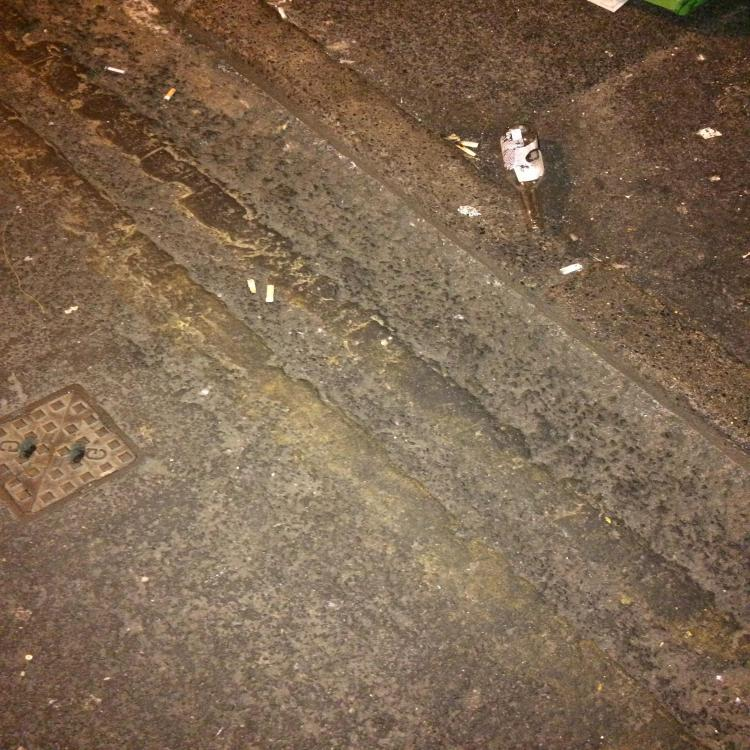Cigarette: (454, 143, 477, 157), (559, 263, 583, 276), (266, 286, 274, 302), (458, 142, 478, 148), (441, 134, 460, 140), (248, 280, 256, 294), (279, 8, 287, 19)
Glass bottle: (499, 123, 545, 232)
